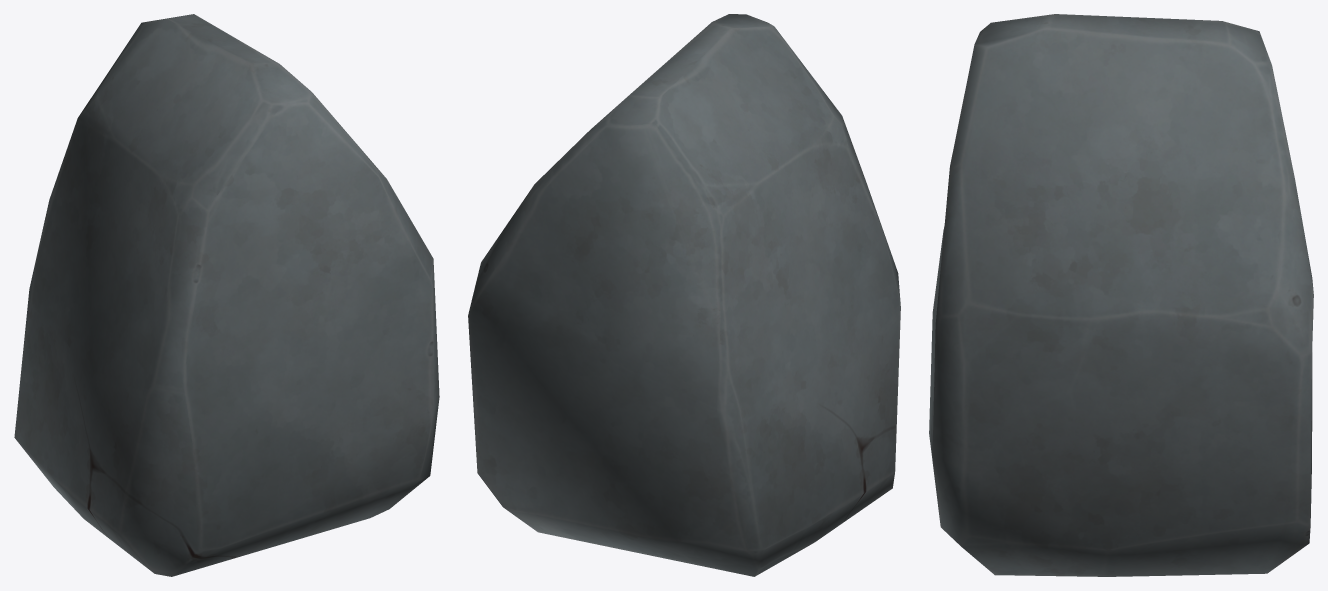
Rendered from rock.glb.
The picture shows the model from 3 angles, left to right: view 1: azimuth 30°, elevation 25°; view 2: azimuth 150°, elevation 25°; view 3: azimuth 270°, elevation 25°; orthographic projection. The views are drawn at different scales.
Visible parts, largest first — view 1: SM_Rock_01_LOD0; view 2: SM_Rock_01_LOD0; view 3: SM_Rock_01_LOD0.
Part boxes in pixels (x1,y1,x2,y2): SM_Rock_01_LOD0: (14, 14, 439, 576); SM_Rock_01_LOD0: (468, 14, 900, 576); SM_Rock_01_LOD0: (929, 14, 1313, 576).
Size of what is drawn, in the model's own units: 0.00465 by 0.00664 by 0.00455.
1 material, 1 textured.
